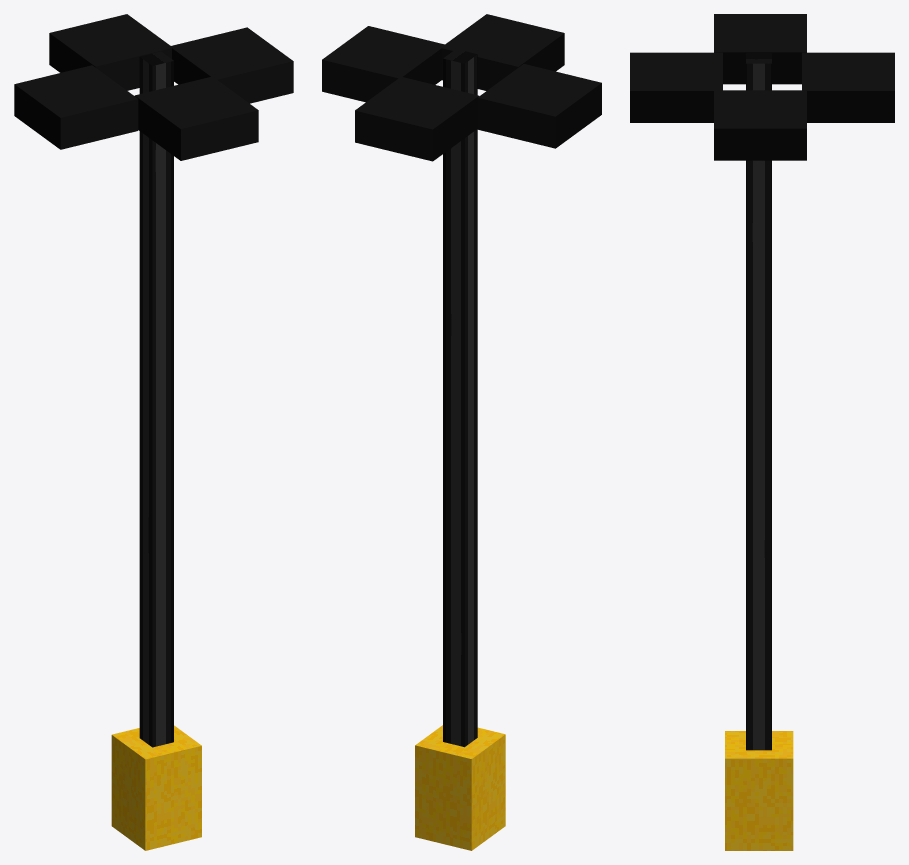
File: BGN_PARKINGLOT ITEM.fbx
3 views of the same model, side by side, from view 1: azimuth 30°, elevation 25°; view 2: azimuth 150°, elevation 25°; view 3: azimuth 270°, elevation 25° (orthographic).
Parts seen in each view (by area): view 1: BGN_PARKINGLOT_ITEM; view 2: BGN_PARKINGLOT_ITEM; view 3: BGN_PARKINGLOT_ITEM.
Boxes of the visible parts, x1,y1,x2,y2 form: BGN_PARKINGLOT_ITEM: (14,14,293,850); BGN_PARKINGLOT_ITEM: (322,14,601,850); BGN_PARKINGLOT_ITEM: (630,14,894,850).
Bounding box in the file's own units: 213 × 675 × 208.
